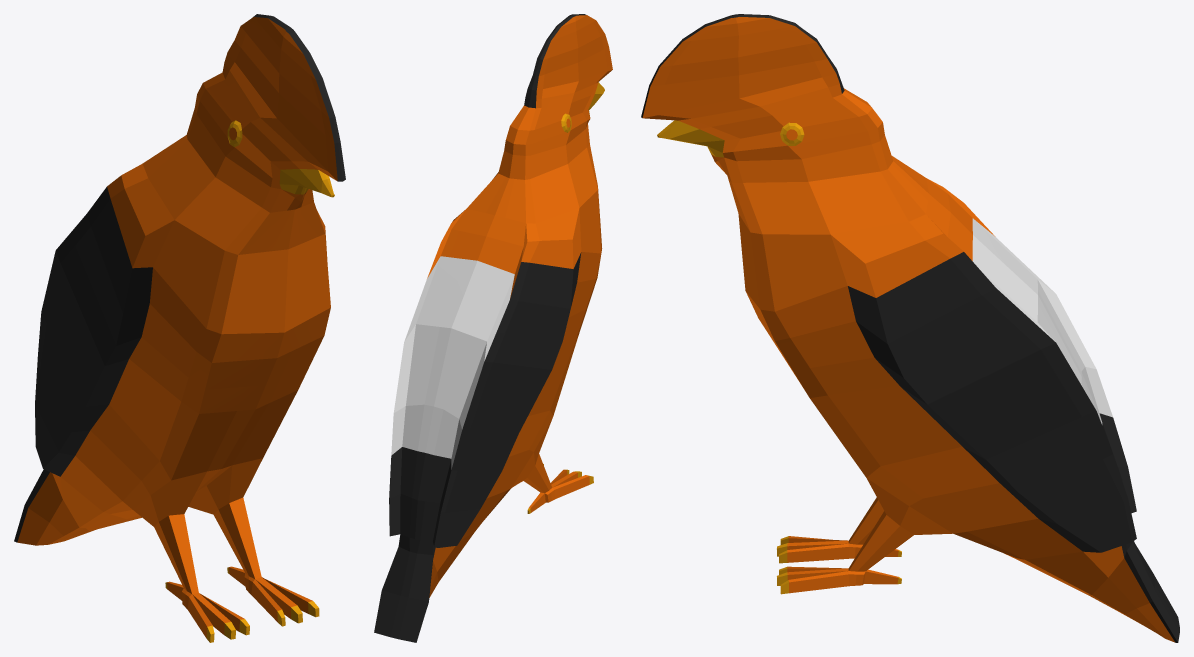
File: rupicola.glb
3 views of the same model, side by side, from view 1: azimuth 30°, elevation 25°; view 2: azimuth 150°, elevation 25°; view 3: azimuth 270°, elevation 25° (orthographic). The views are drawn at different scales.
Parts seen in each view (by area): view 1: Plane; view 2: Plane; view 3: Plane.
Boxes of the visible parts, x1,y1,x2,y2 form: Plane: (14, 14, 345, 642); Plane: (374, 14, 612, 642); Plane: (641, 14, 1179, 642).
Size of the model in its own units: 0.9153 by 3.67 by 2.9.
